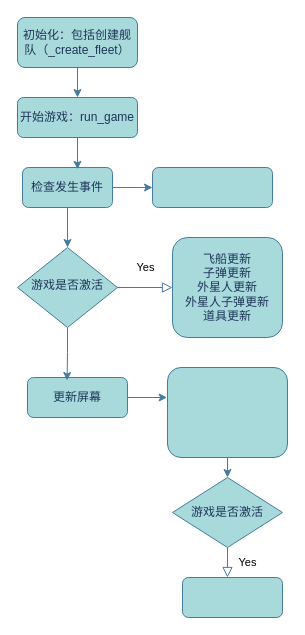
Some shapes in this 305 by 635 pixel diagram are drawn without their labels. The shapes that lost their labels are listed below. From the top down, each one's centre as x and y in pixels, then its label:
At (212,187): "退出、按键、松键、鼠标点击".
At (227,412): "显示子弹 显示道具 显示飞船 显示外星人 显示成绩".
At (232,597): "显示Play按钮".
